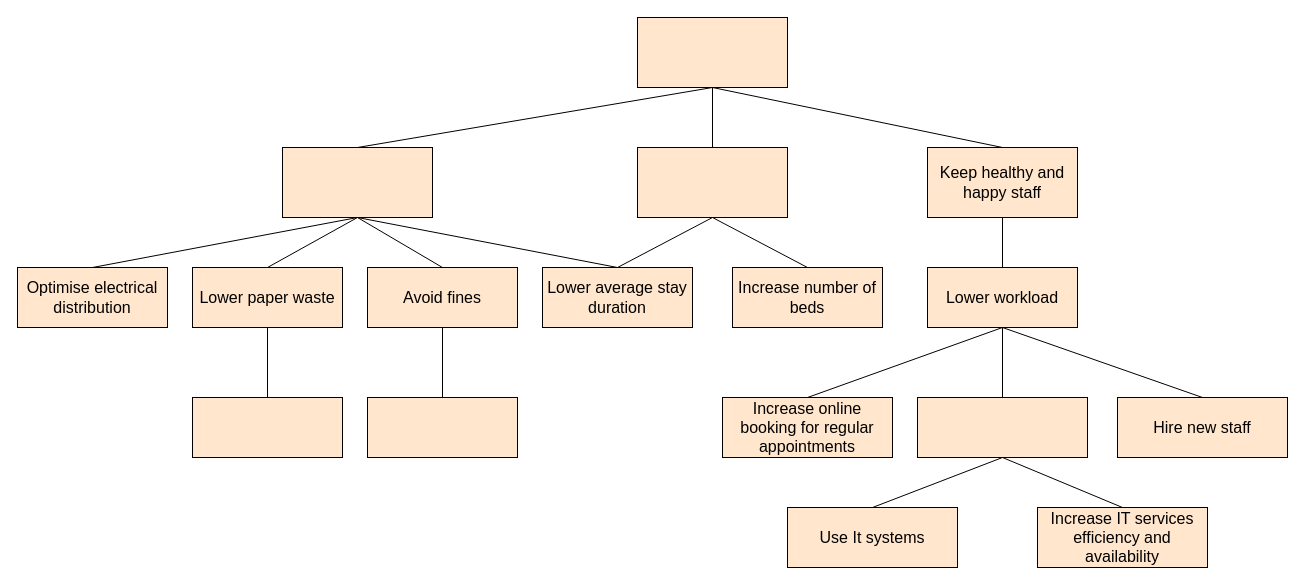
Some shapes in this 1305 by 585 pixel diagram are drawn without their labels. Here are the shapes that lost their labels. From the top down, the centre of each, then its label:
At [712,52]: "Increase patients healed".
At [357,182]: "Lower costs per patient".
At [712,182]: "Optimize number of available beds".
At [267,427]: "Use digital prescriptions".
At [442,427]: "Comply with RGPD".
At [1002,427]: "Optimise efficiency of medical staff".
